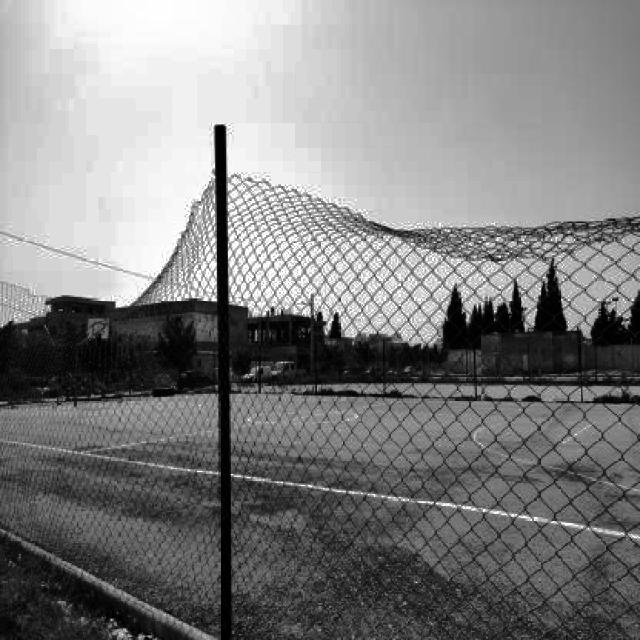anomaly-fence: (5, 139, 191, 379), (292, 153, 640, 270)
